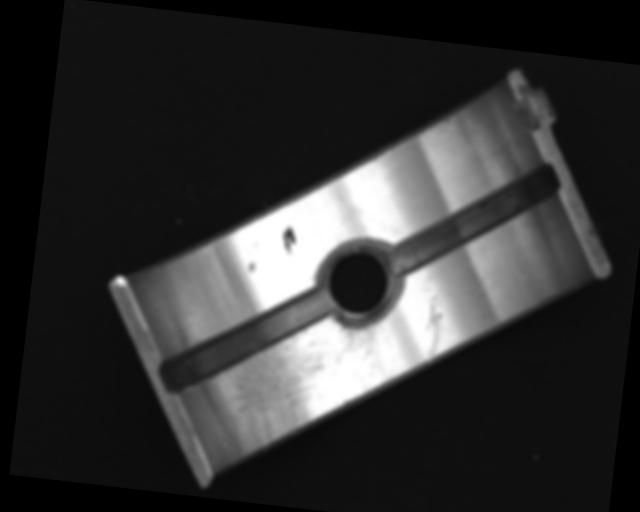blot: (281, 223, 298, 255)
bruise: (245, 259, 257, 275)
gap: (385, 149, 561, 291), (156, 275, 329, 406)
hole: (313, 238, 404, 329)
nick: (419, 294, 448, 364)
scratch: (223, 306, 383, 473)
